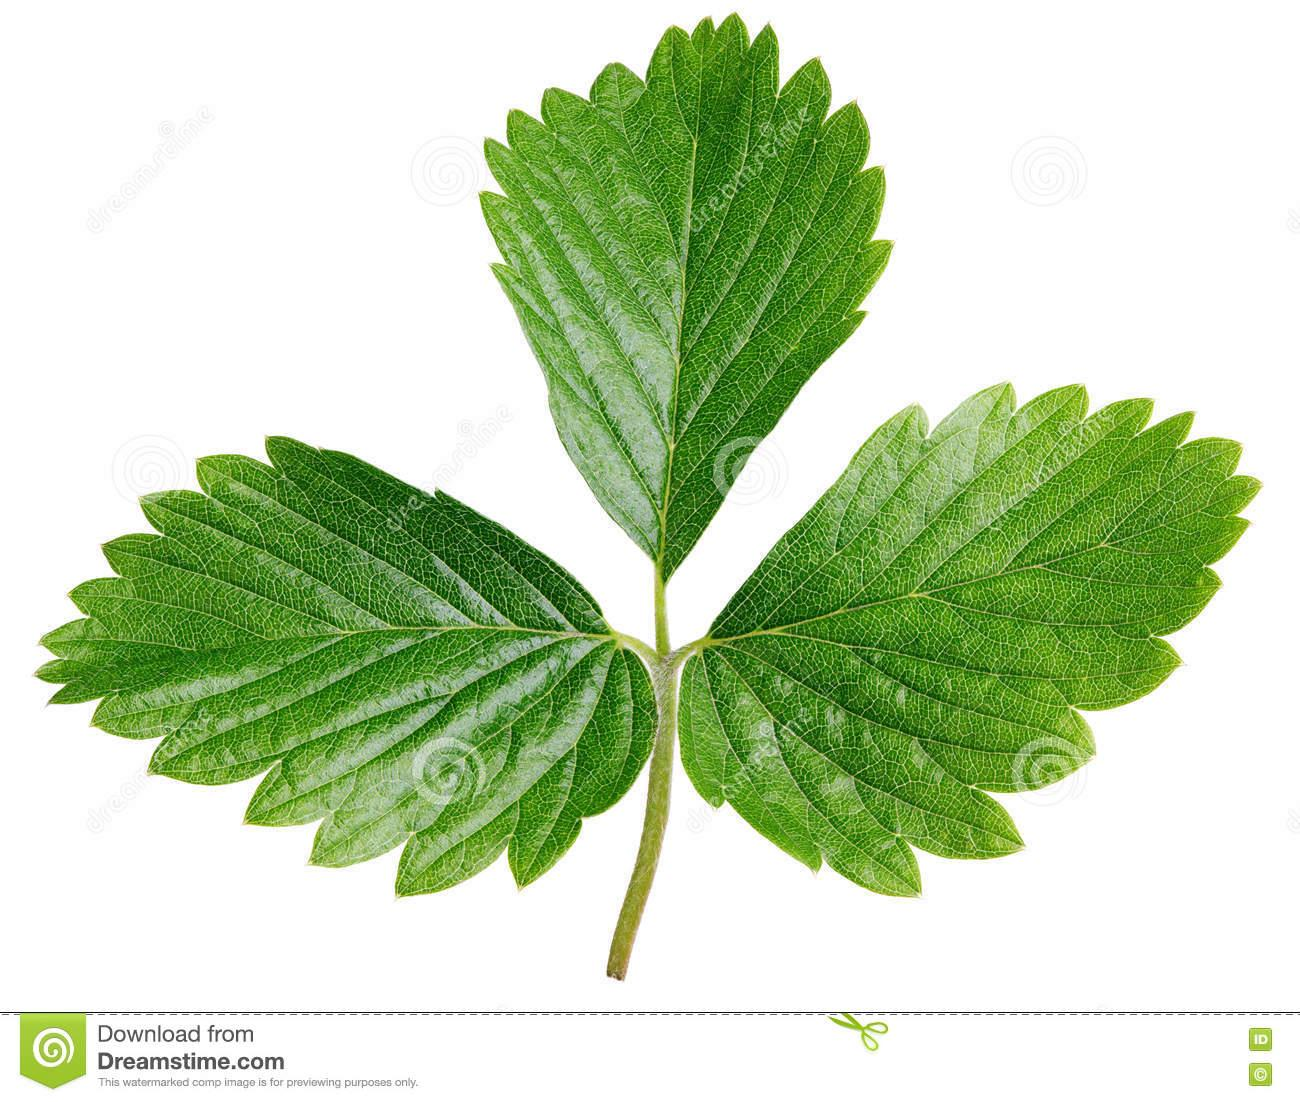Strawberry leaf: (666, 375, 1280, 933), (23, 415, 652, 890), (473, 5, 897, 565)
